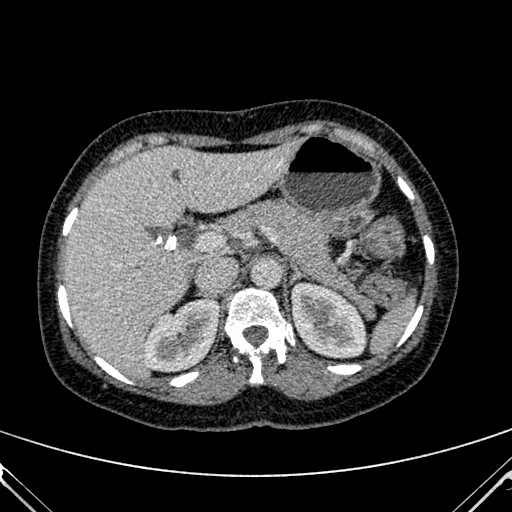clipe: (163, 234, 177, 250), (154, 235, 162, 245)
